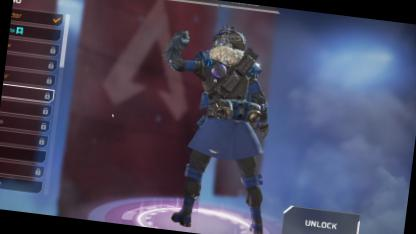Target: (178, 21, 279, 220)
